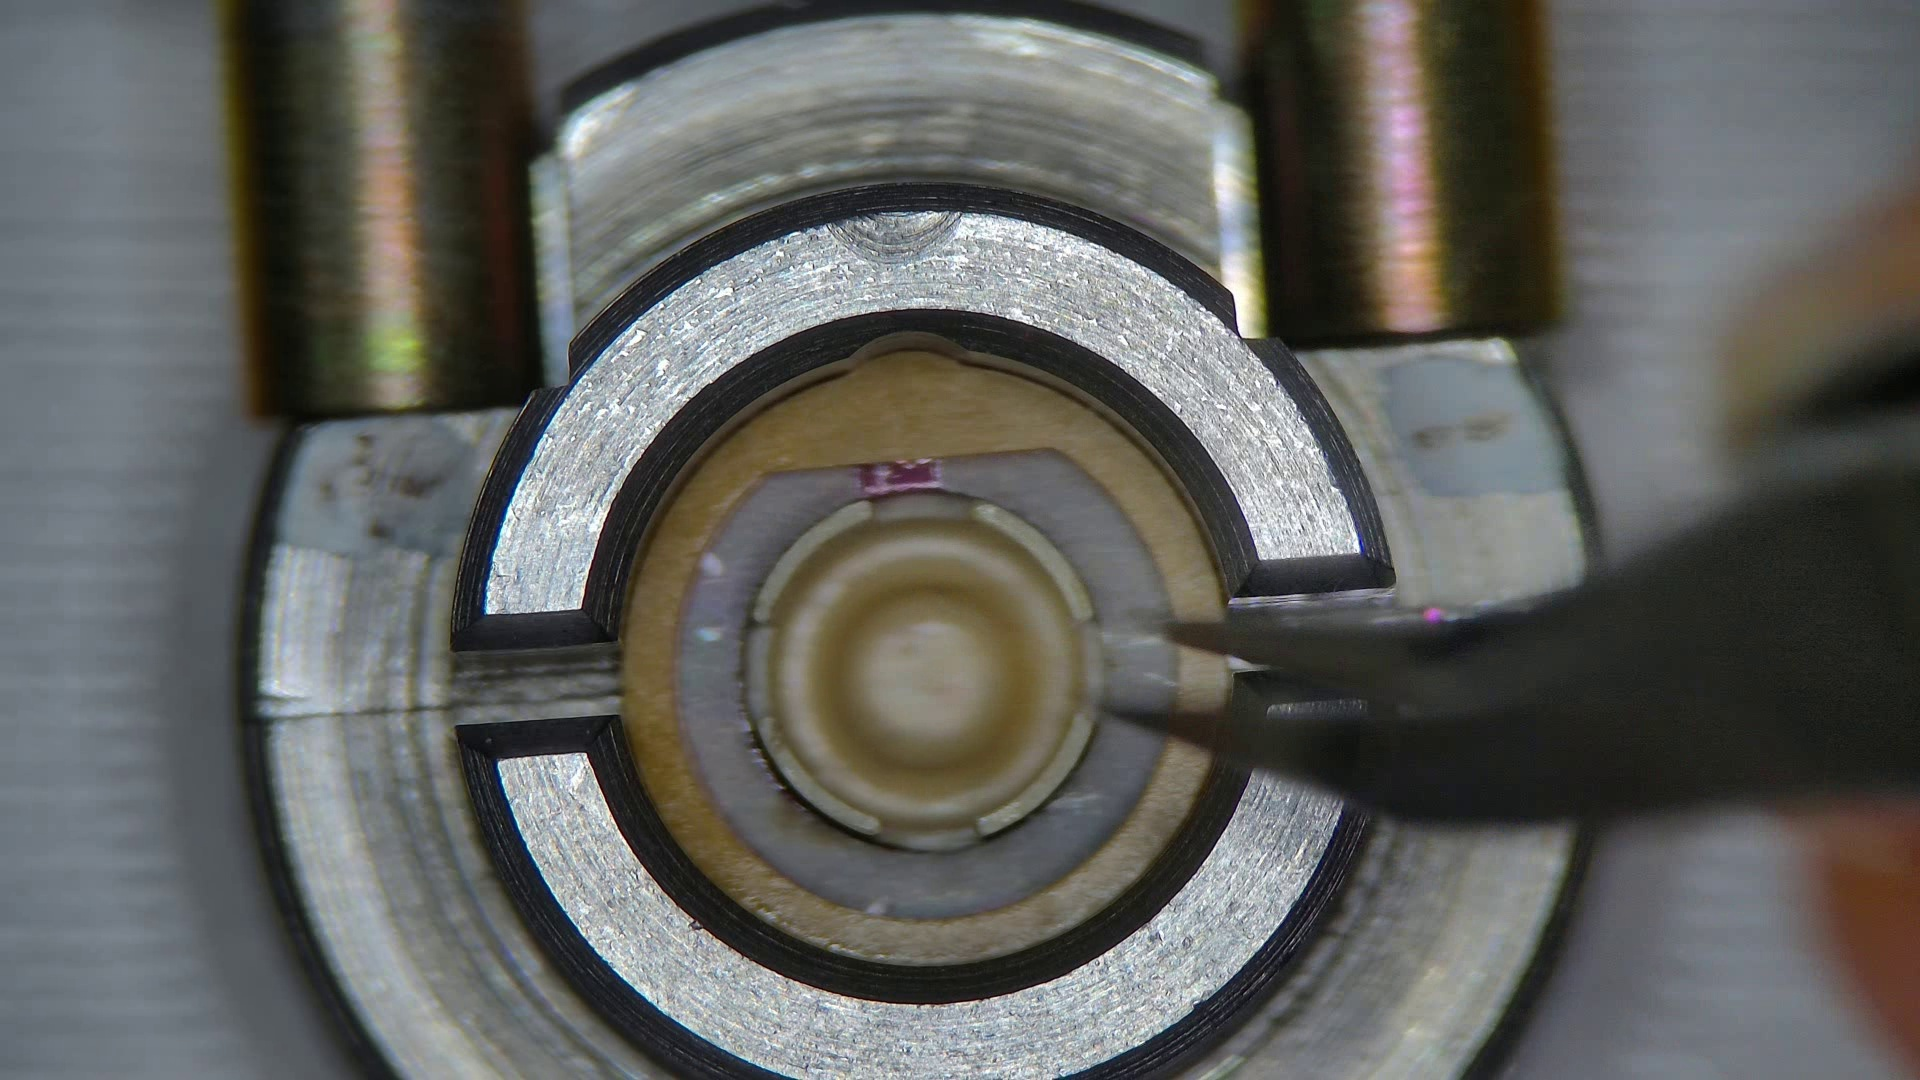YellowOring: (679, 458, 1170, 918)
redOring: (624, 348, 1221, 959), (1179, 649, 1221, 712)
